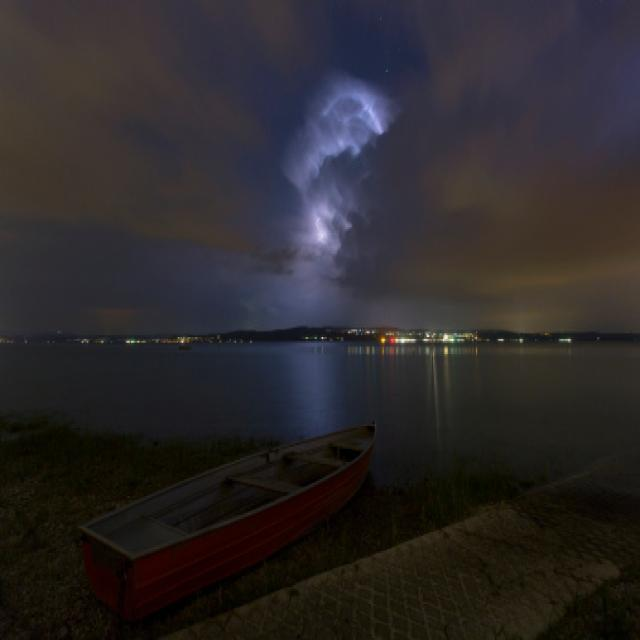Boat: (49, 407, 391, 640)
